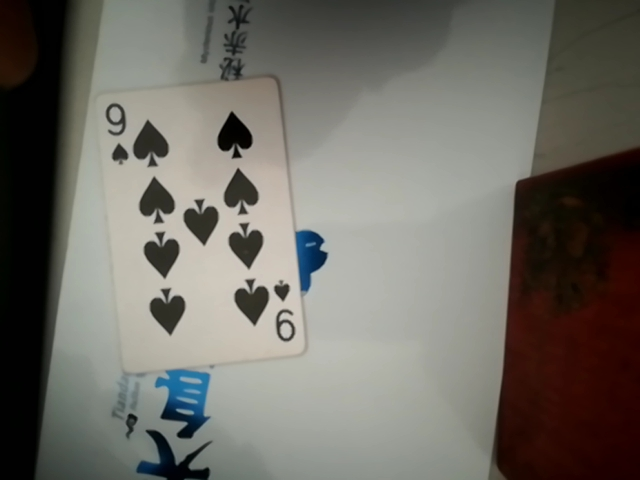ht 9: (89, 73, 299, 368)
